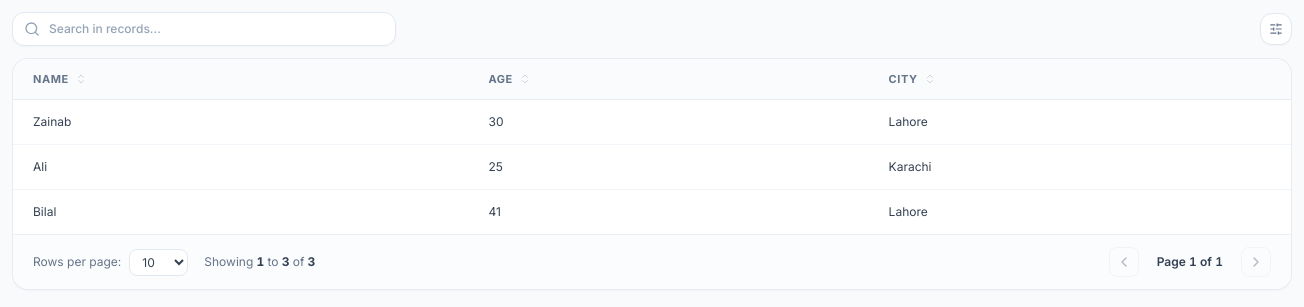
Scenario: DataTable › clicking a header sorts ascending, then descending, then clears the sort
Later steps or results of the test are not shown.
Click the column heading "Name" at (51, 79), box [13,59,468,100]
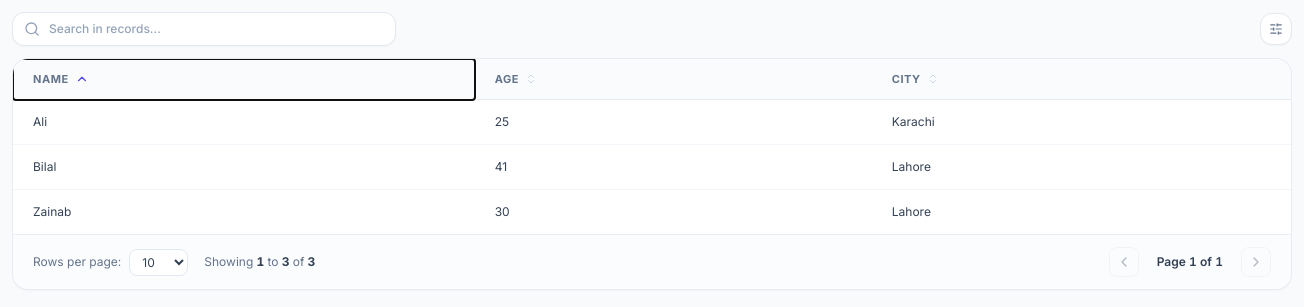
Result: the column heading "Name" has attribute aria-sort="ascending"
Click the column heading "Name" at (51, 79), box [13,59,475,100]
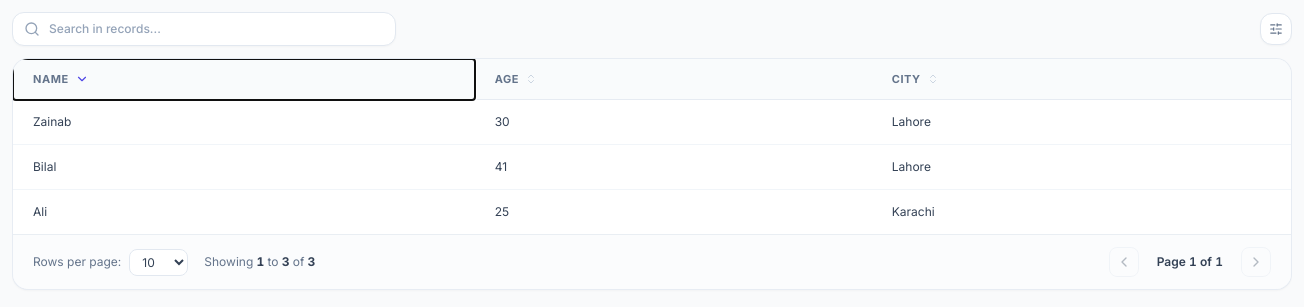
Result: the column heading "Name" has attribute aria-sort="descending" at [13,59,475,100]
